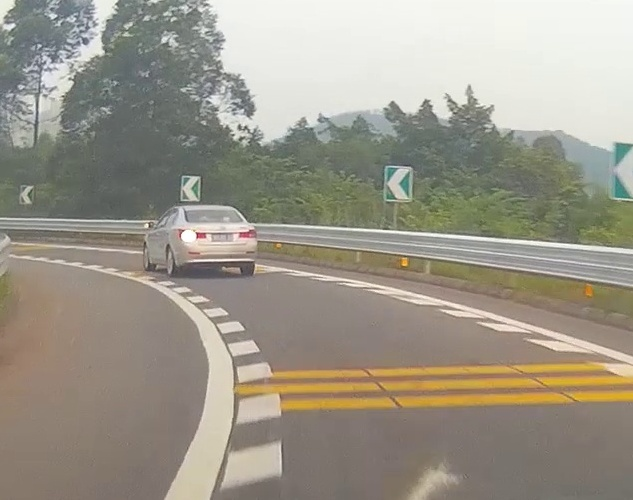L_light: (178, 229, 206, 240)
R_light: (238, 229, 257, 239)
T_light: (206, 209, 220, 212)
day-left: (174, 206, 258, 277)
